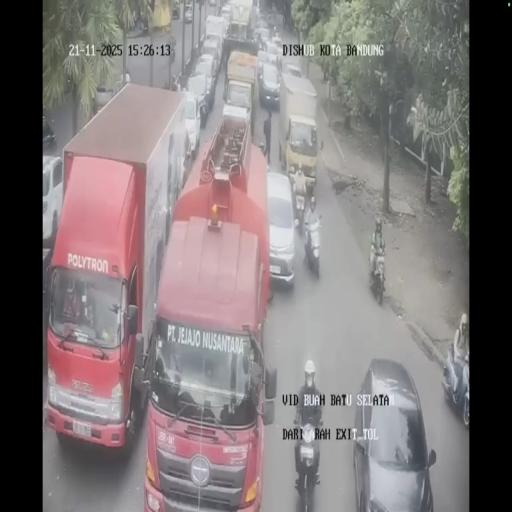car: (266, 170, 296, 287), (41, 155, 64, 248), (223, 83, 253, 138), (184, 72, 210, 132), (258, 60, 281, 109), (200, 36, 222, 76), (260, 40, 282, 66), (254, 26, 270, 46), (284, 62, 302, 77), (221, 2, 231, 26), (184, 4, 192, 23)
motorcycle: (304, 214, 322, 278), (368, 249, 386, 304), (293, 187, 307, 233)
truck: (45, 82, 191, 456), (278, 68, 318, 191), (94, 74, 131, 114)
